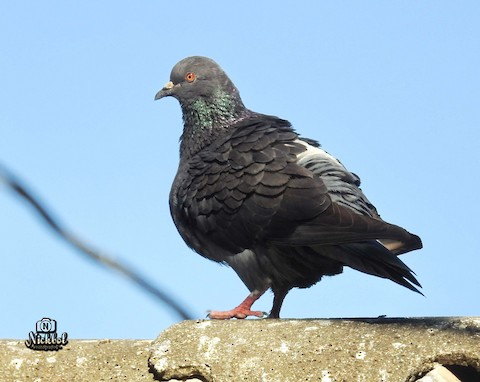pigeon: (148, 50, 427, 325)
